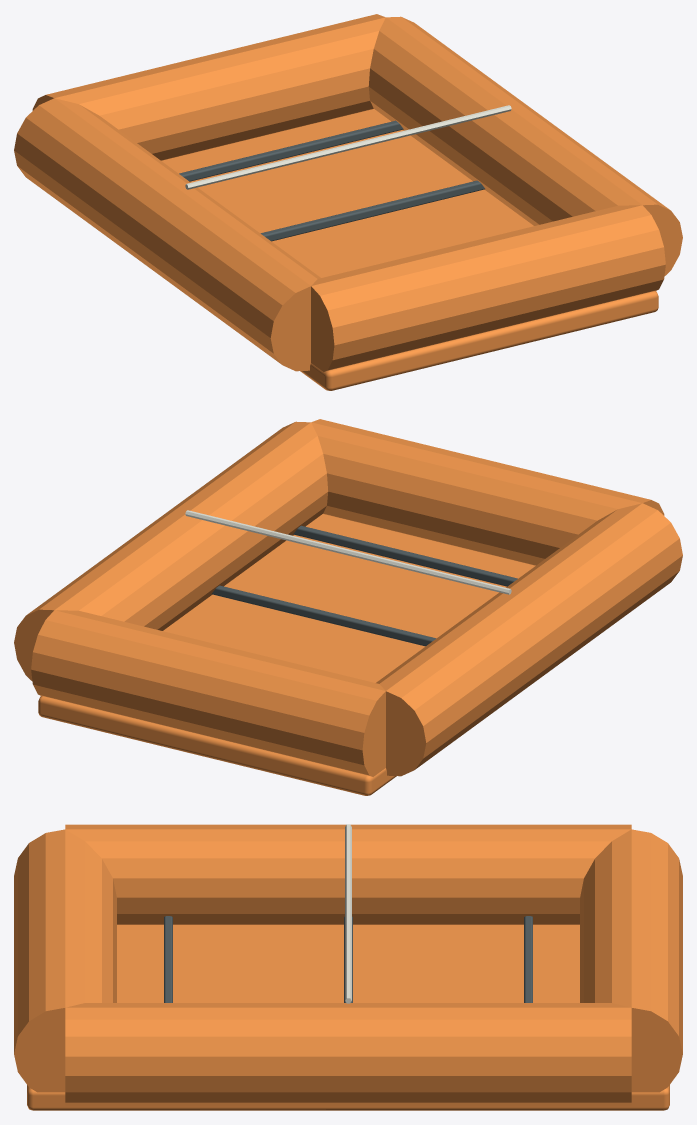
Rendered from castaway-island-escape-emergency-slide-raft-f7beab9c__28054.glb.
3 views of the same model, one above another, from view 1: azimuth 30°, elevation 25°; view 2: azimuth 150°, elevation 25°; view 3: azimuth 270°, elevation 25° (orthographic). The views are drawn at different scales.
Parts seen in each view (by area): view 1: emergency-slide-raft-orange, emergency-slide-raft-iron, emergency-slide-raft-ivory; view 2: emergency-slide-raft-orange, emergency-slide-raft-iron, emergency-slide-raft-ivory; view 3: emergency-slide-raft-orange, emergency-slide-raft-iron, emergency-slide-raft-ivory.
Boxes of the visible parts, box(x1,y1,x2,y2) form: emergency-slide-raft-orange: box(14, 14, 682, 390); emergency-slide-raft-iron: box(179, 120, 484, 241); emergency-slide-raft-ivory: box(185, 105, 511, 189); emergency-slide-raft-orange: box(14, 419, 682, 795); emergency-slide-raft-iron: box(212, 525, 517, 646); emergency-slide-raft-ivory: box(185, 510, 511, 594); emergency-slide-raft-orange: box(14, 824, 682, 1110); emergency-slide-raft-iron: box(164, 916, 532, 1002); emergency-slide-raft-ivory: box(345, 824, 351, 1003).
Bounding box in the file's own units: 2.04 × 0.4813 × 2.6.
